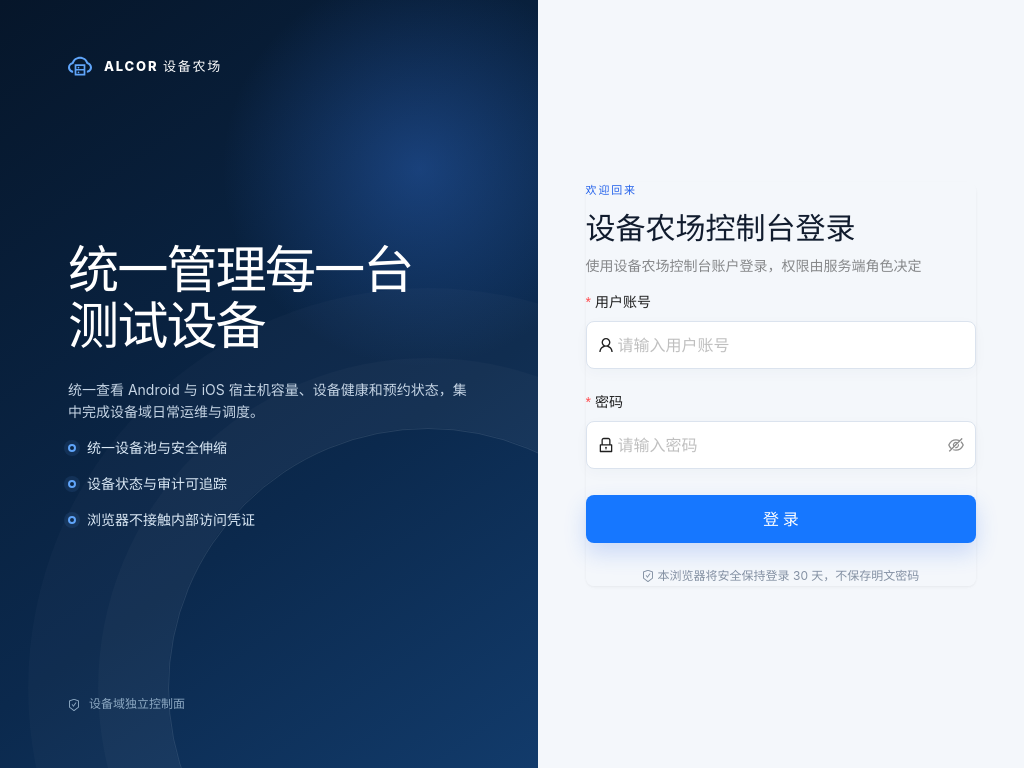
Test: LoginPage › shows an error message when the credentials are rejected
Type "admin" into the field labelled "用户账号". click: (791, 345)
box: [618, 329, 964, 361]
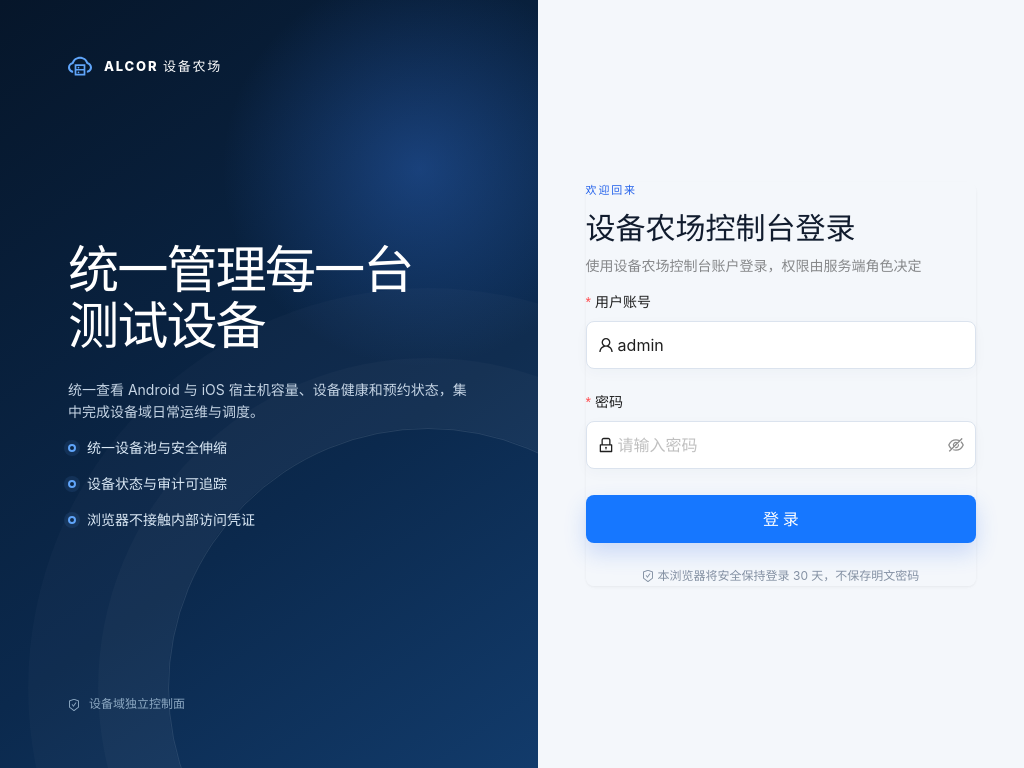
Type "wrong-password" into the password field labelled "密码". click: (781, 445)
box: [618, 429, 944, 461]
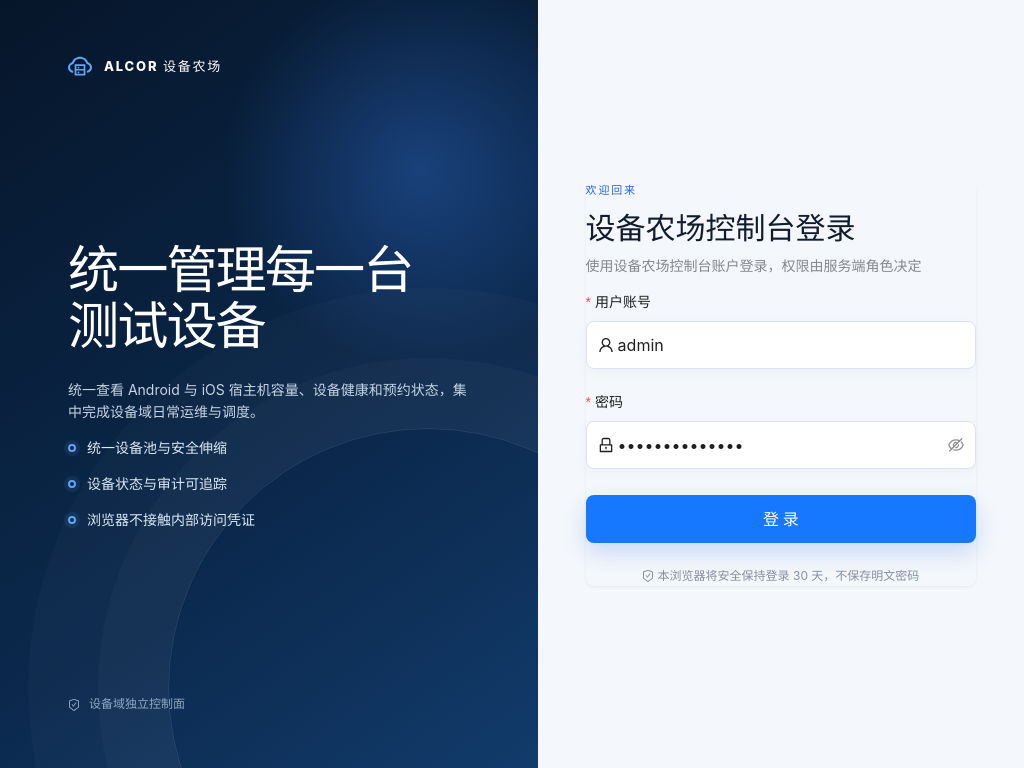
Click the button "登 录". click: (781, 519)
box: [586, 495, 976, 543]
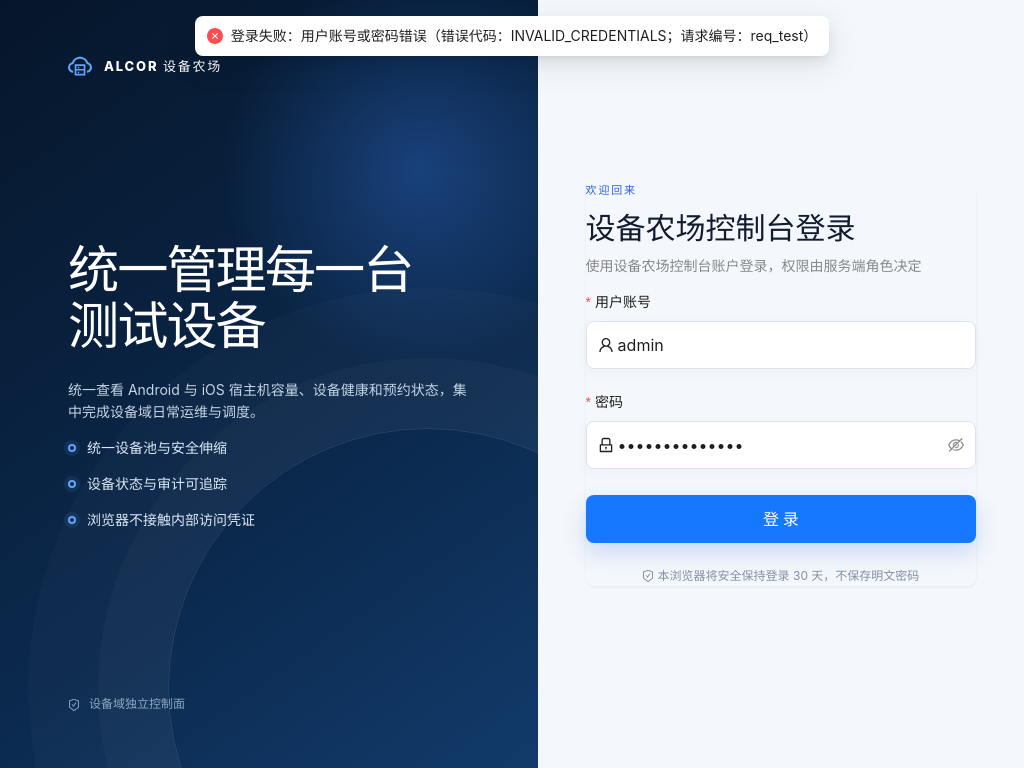
Expected: the text "登录失败：用户账号或密码错误（错误代码：INVALID_CREDENTIALS；请求编号：req_test）" is shown, [231, 25, 817, 47]
